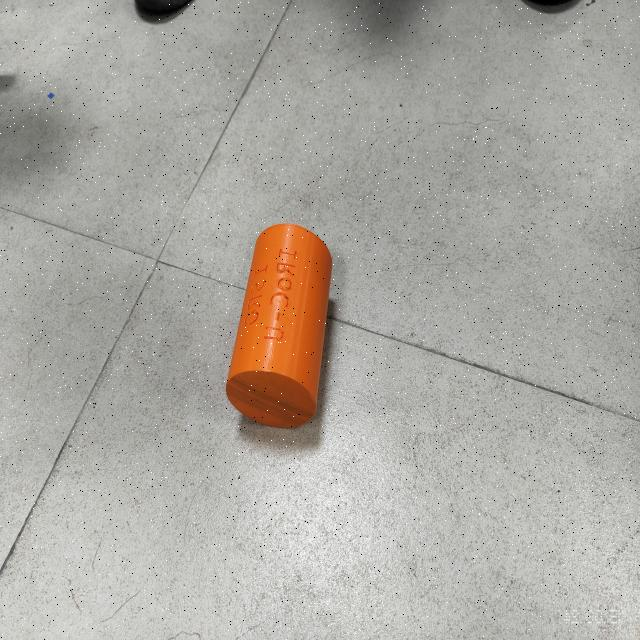Cylinder: (225, 222, 334, 428)
